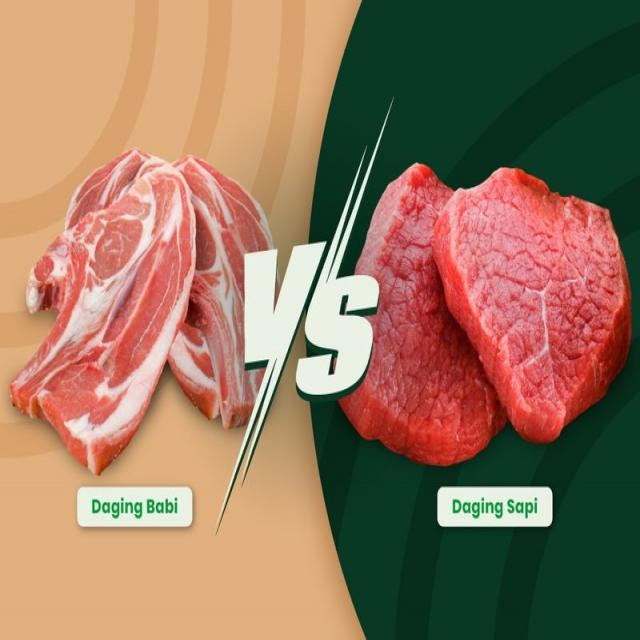beef: (440, 167, 640, 439), (343, 160, 504, 476)
